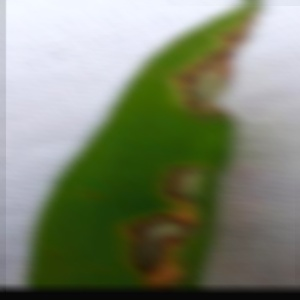Brown_Spot: (125, 212, 203, 274), (154, 142, 209, 209)
